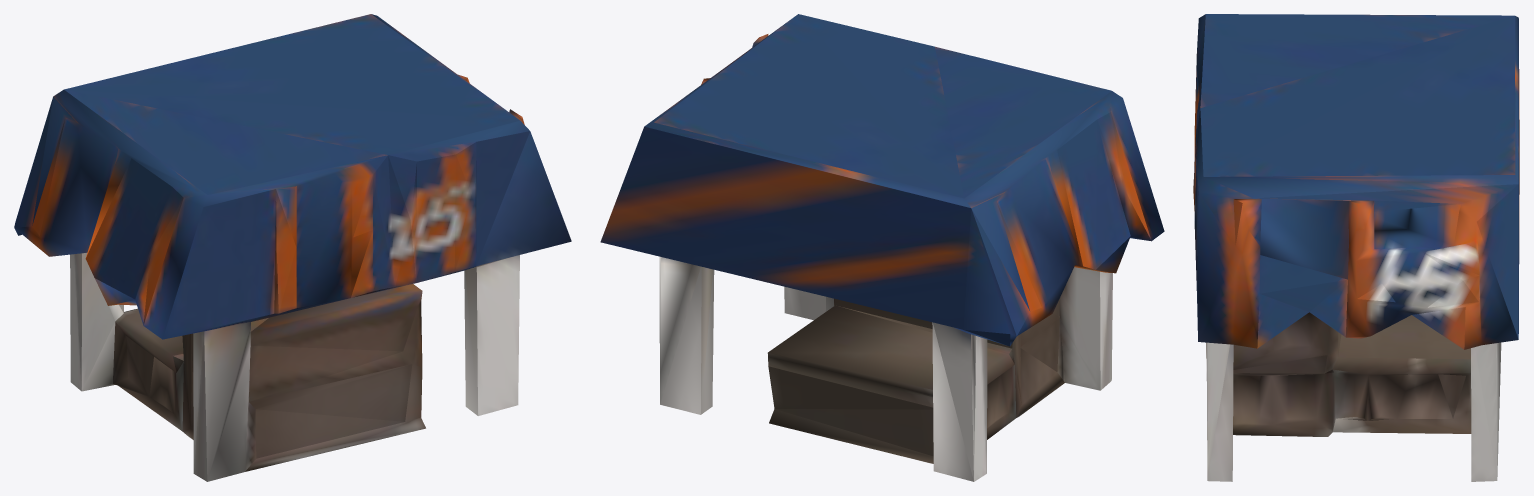
3 renders of one model, left to right at view 1: azimuth 30°, elevation 25°; view 2: azimuth 150°, elevation 25°; view 3: azimuth 270°, elevation 25°, orthographic. The views are drawn at different scales.
Visible parts, largest first — view 1: tripo_node_fb7e8506.001; view 2: tripo_node_fb7e8506.001; view 3: tripo_node_fb7e8506.001.
Part boxes in pixels (left/top/right/bottom): tripo_node_fb7e8506.001: left=14, top=14, right=571, bottom=481; tripo_node_fb7e8506.001: left=600, top=14, right=1164, bottom=481; tripo_node_fb7e8506.001: left=1193, top=14, right=1519, bottom=481.
Bounding box in the file's own units: 17.17 × 11.39 × 10.9.
1 material, 1 textured.
